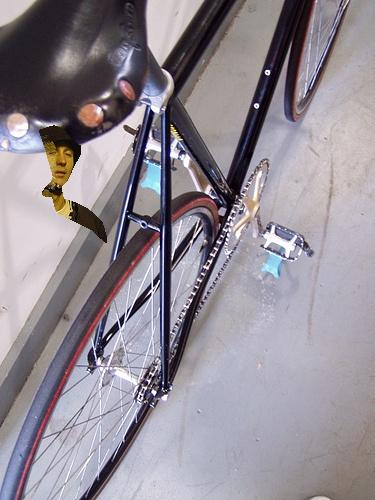tampered: (40, 126, 107, 243)
